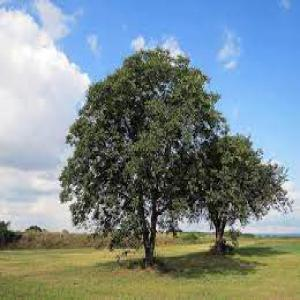Tree: (56, 42, 222, 269), (197, 132, 290, 251)
